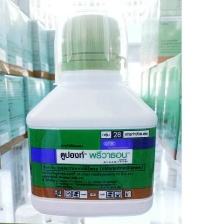insecticide: (23, 7, 160, 219)
